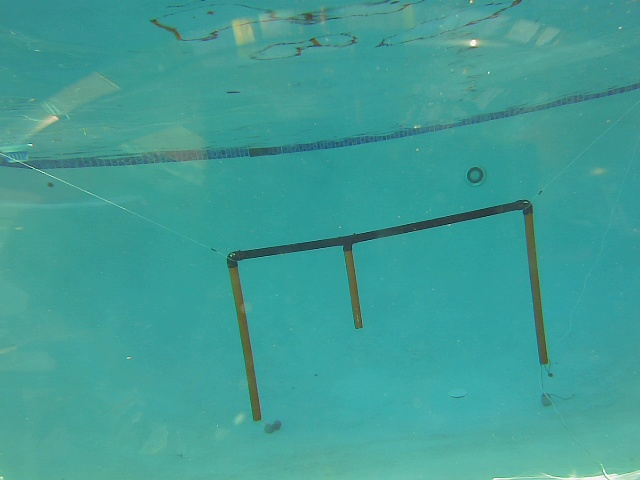Gate: (227, 261, 263, 421), (523, 207, 551, 367), (340, 242, 363, 332)
